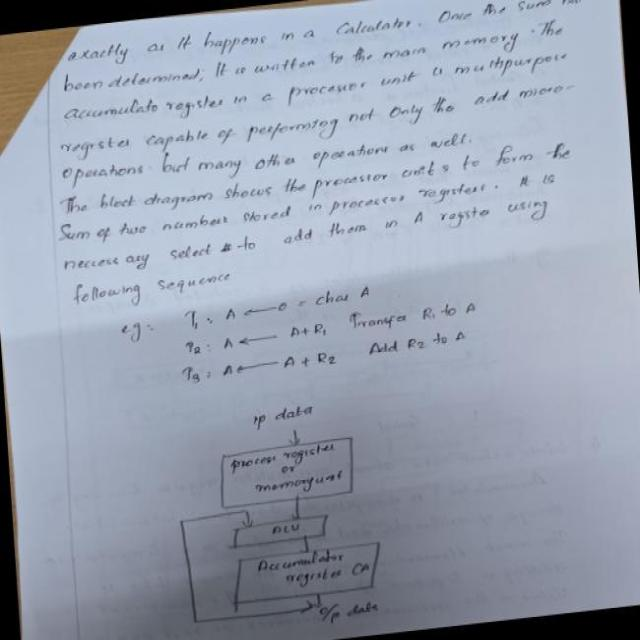Figure Detection - v3 Dataset Version2: (147, 382, 427, 640)
